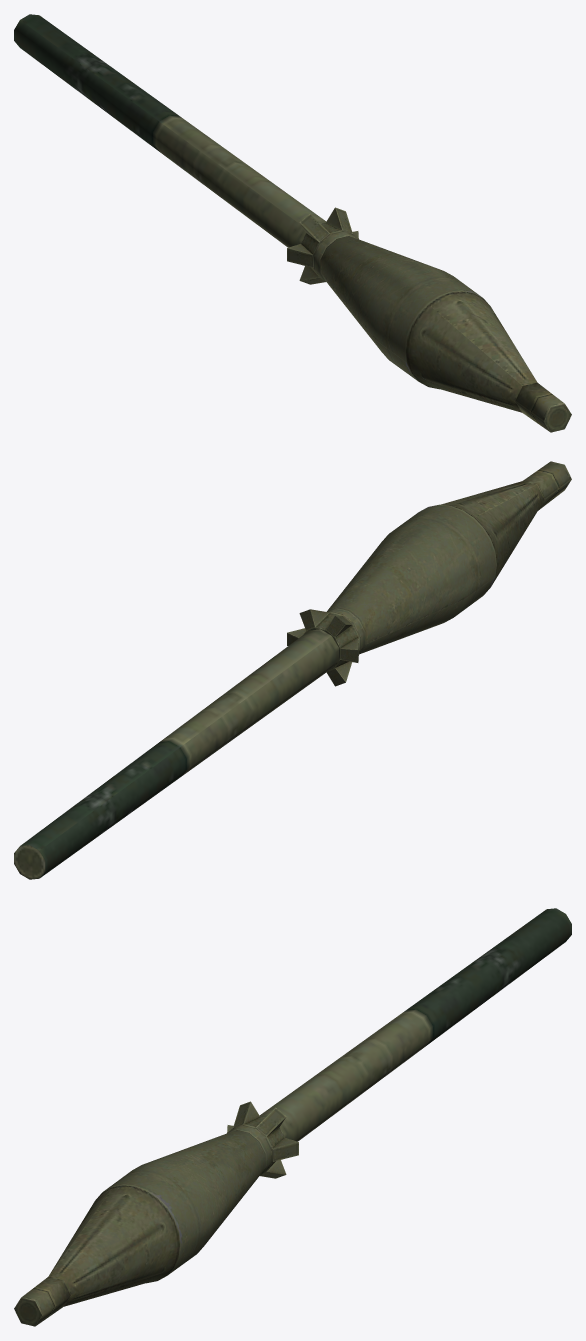
File: Heavy_Throwable_RPG7_Launcher_LOD_(000346).glb
The picture shows the model from 3 angles, top to bottom: view 1: azimuth 30°, elevation 25°; view 2: azimuth 150°, elevation 25°; view 3: azimuth 330°, elevation 25°; orthographic projection.
Parts seen in each view (by area): view 1: 1022_RPG7_B_lod0; view 2: 1022_RPG7_B_lod0; view 3: 1022_RPG7_B_lod0.
Part boxes in pixels (bbox=[...]): 1022_RPG7_B_lod0: bbox=[14, 14, 571, 432]; 1022_RPG7_B_lod0: bbox=[14, 461, 571, 879]; 1022_RPG7_B_lod0: bbox=[14, 908, 571, 1326].
Bounding box in the file's own units: 0.1537 × 0.1537 × 1.53.
Materials: 1 (1 with a texture image).
